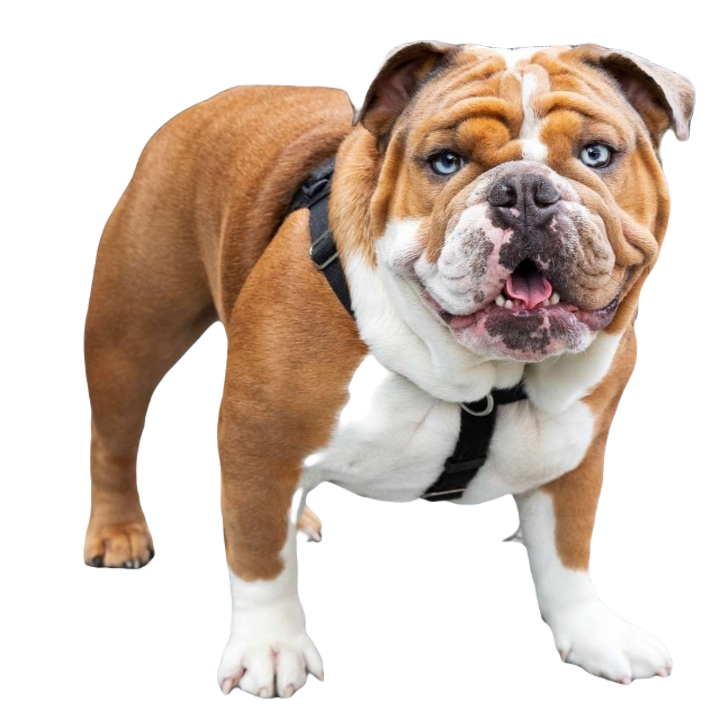Dog: (80, 35, 699, 693)
